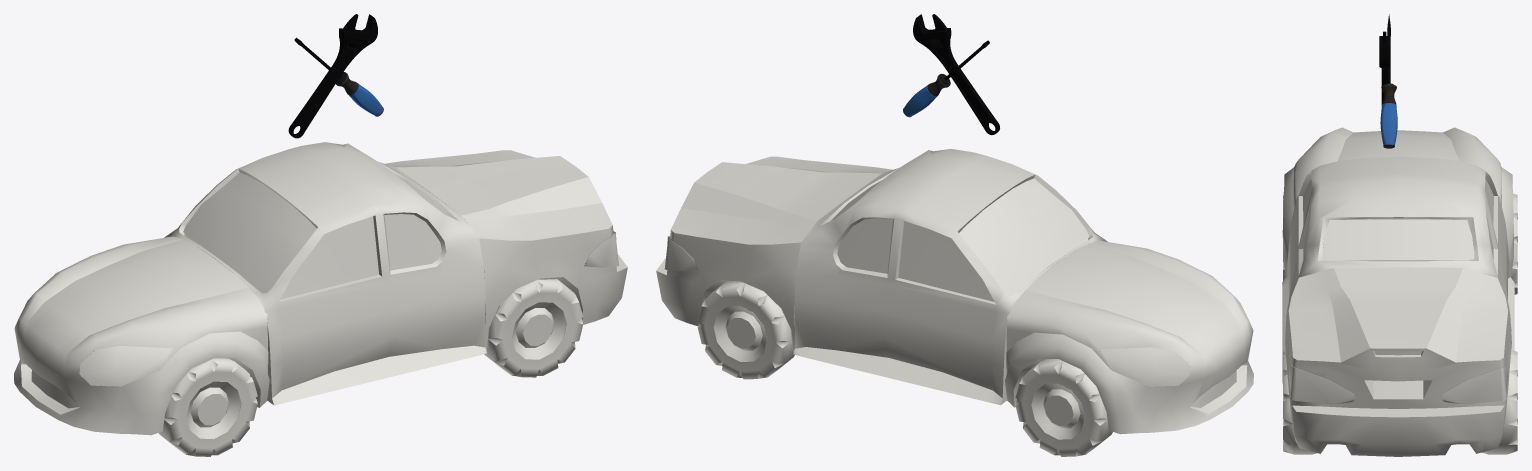
File: asset8.glb
3 renders of one model, left to right at view 1: azimuth 30°, elevation 25°; view 2: azimuth 150°, elevation 25°; view 3: azimuth 270°, elevation 25°, orthographic. The views are drawn at different scales.
Visible parts, largest first — view 1: node_id54, node_id40, node_id34, node_id50, node_id62, node_id66, node_id52, node_id73, node_id42, node_id60, node_id64, node_id38; view 2: node_id54, node_id40, node_id34, node_id50, node_id58, node_id48, node_id52, node_id73, node_id44, node_id46, node_id56, node_id36; view 3: node_id34, node_id54, node_id40, node_id50, node_id36, node_id38, node_id73, node_id58, node_id62, node_id48, node_id52.
Boxes of the visible parts, x1,y1,x2,y2 form: node_id54: (164,142,486,405); node_id40: (14,236,269,435); node_id34: (385,150,627,351); node_id50: (183,172,448,293); node_id62: (484,279,583,377); node_id66: (158,358,257,456); node_id52: (280,216,379,299); node_id73: (288,14,383,138); node_id42: (79,346,173,386); node_id60: (512,302,566,359); node_id64: (186,381,241,438); node_id38: (584,231,618,267); node_id54: (793,149,1107,405); node_id40: (1005,240,1253,434); node_id34: (656,156,892,352); node_id50: (831,178,1088,295); node_id58: (697,282,794,379); node_id48: (1015,359,1112,456); node_id52: (898,221,994,301); node_id73: (903,14,999,135); node_id44: (1099,347,1189,386); node_id46: (1031,383,1084,439); node_id56: (713,306,767,361); node_id36: (664,236,698,271); node_id34: (1285,267,1511,456); node_id54: (1282,156,1514,383); node_id40: (1282,127,1513,276); node_id50: (1322,219,1474,259); node_id36: (1441,365,1507,404); node_id38: (1289,365,1355,404); node_id73: (1379,14,1397,148); node_id58: (1482,350,1517,454); node_id62: (1283,351,1323,454); node_id48: (1511,193,1517,294); node_id52: (1302,179,1493,225).
Bounding box in the file's own units: 0.512 × 0.319 × 0.192.
Materials: 18 (18 with a texture image).
